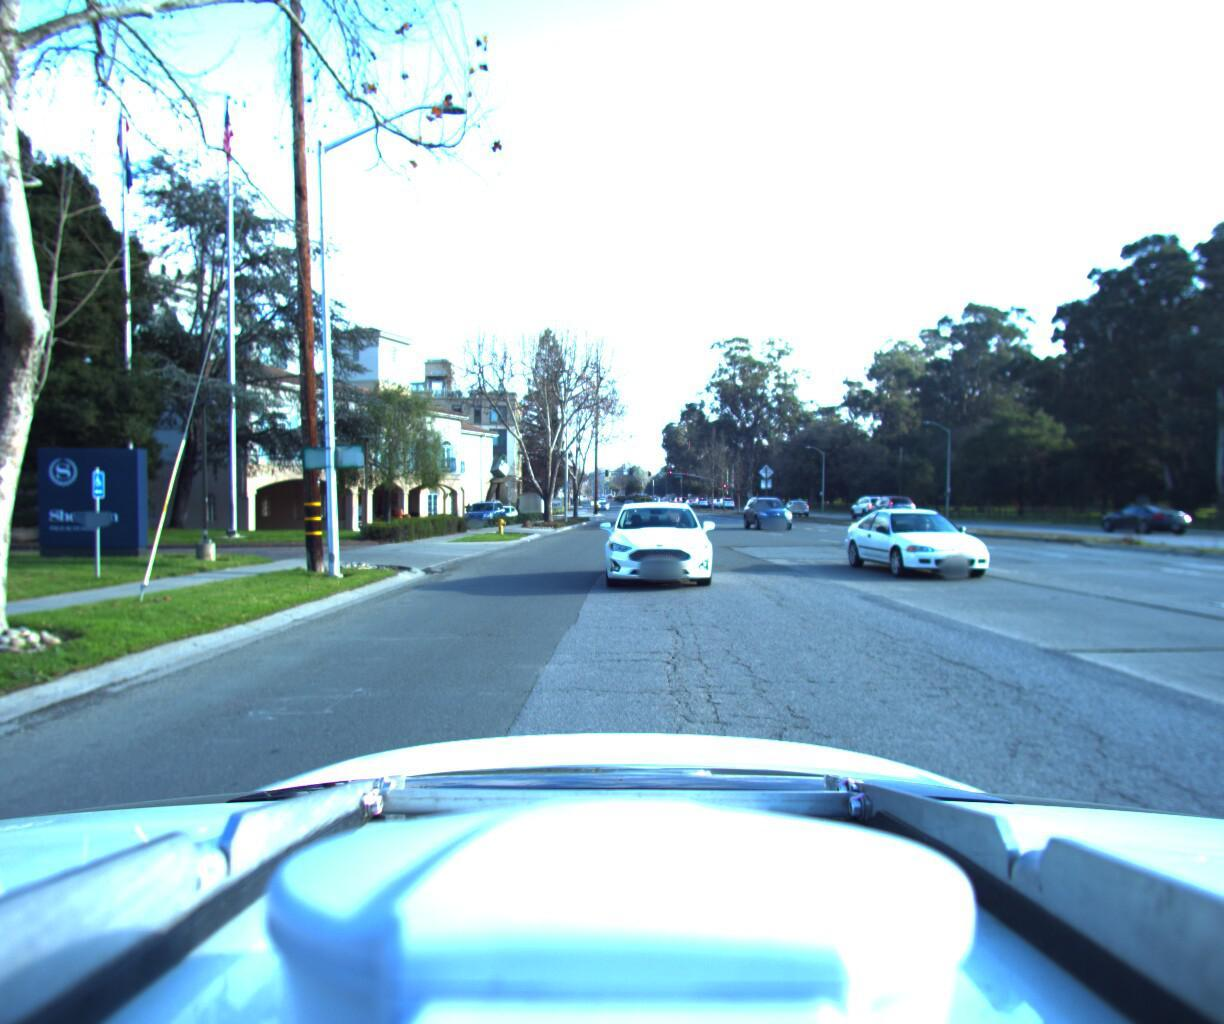car: (861, 499, 1039, 586), (599, 494, 706, 592), (1076, 496, 1173, 529), (745, 491, 805, 529), (461, 491, 507, 524), (859, 488, 912, 517), (841, 488, 884, 513), (777, 491, 807, 508)
